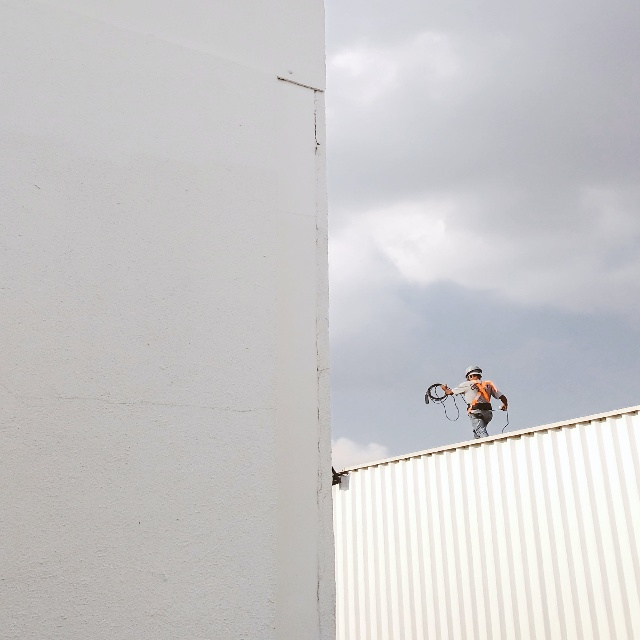Sin_guantes: (440, 383, 447, 392), (500, 404, 507, 411)
